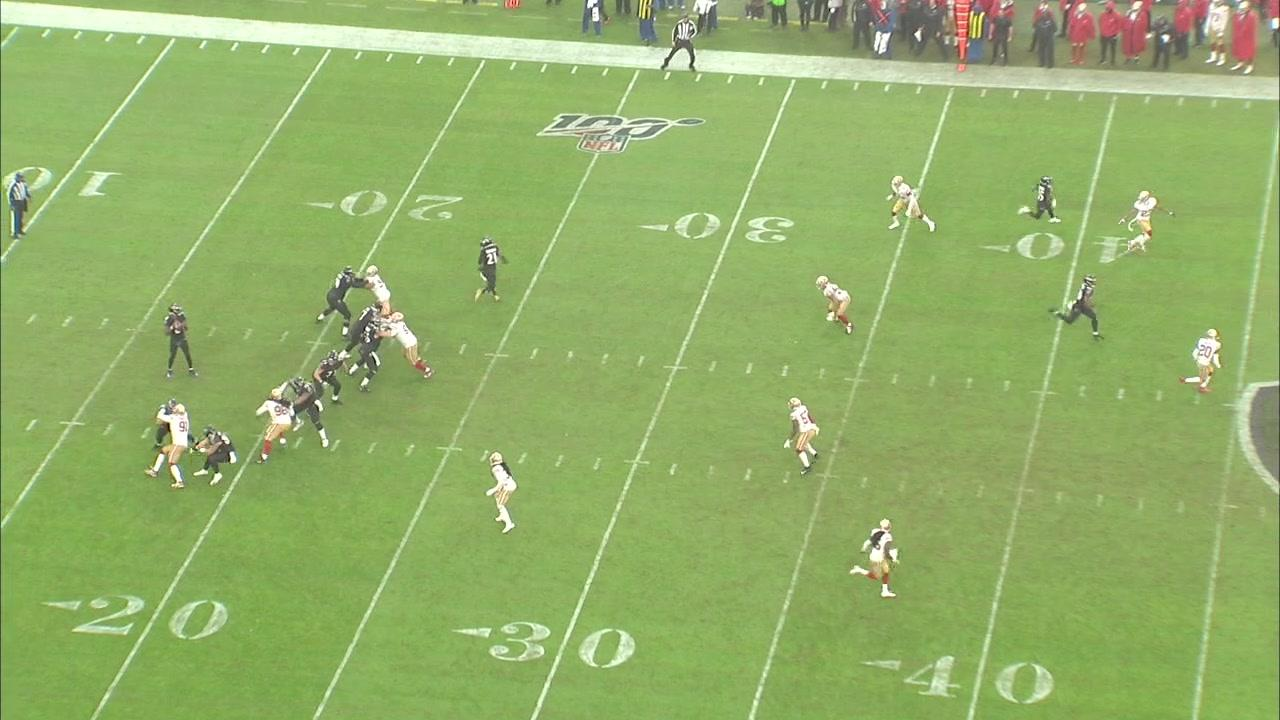defense: (143, 402, 194, 491), (847, 514, 898, 600), (381, 310, 436, 381), (251, 386, 299, 467), (784, 391, 823, 482), (480, 449, 519, 539), (1119, 191, 1174, 253), (1179, 325, 1223, 398), (887, 175, 936, 235), (816, 275, 854, 334), (359, 263, 396, 314)
oline: (311, 261, 356, 342), (285, 376, 331, 451), (304, 348, 357, 408), (151, 396, 198, 455), (345, 316, 381, 393), (192, 425, 236, 486), (347, 302, 388, 345)
qb: (160, 302, 196, 377)
ref: (657, 12, 699, 74), (3, 169, 32, 245)
skill: (1047, 273, 1102, 341), (470, 234, 509, 307), (1026, 172, 1058, 233)
